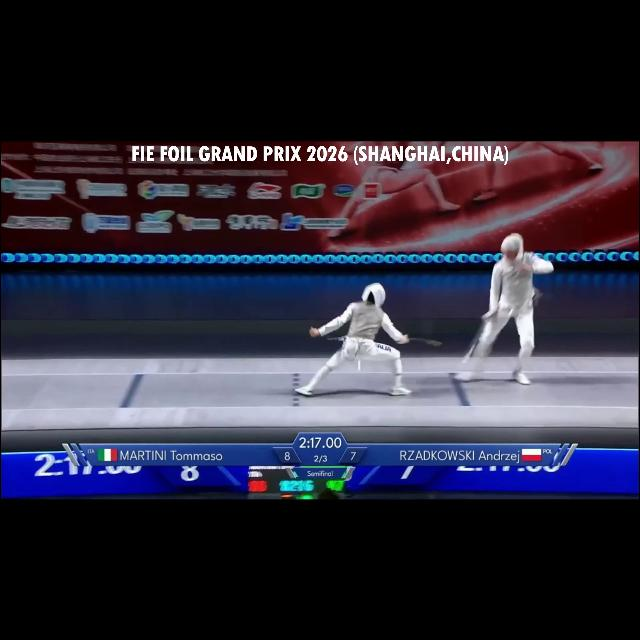blade: (454, 307, 498, 375), (391, 331, 447, 352)
